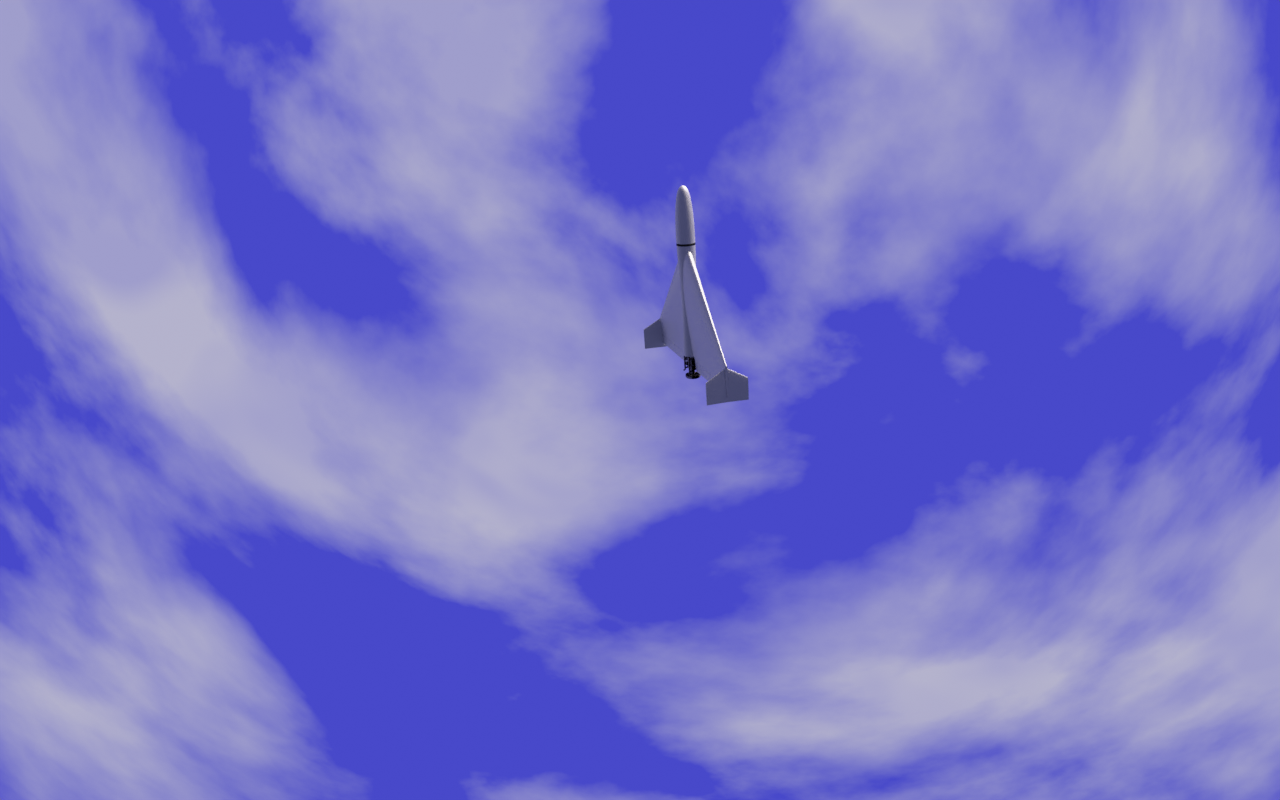shahed: (643, 185, 751, 408)
